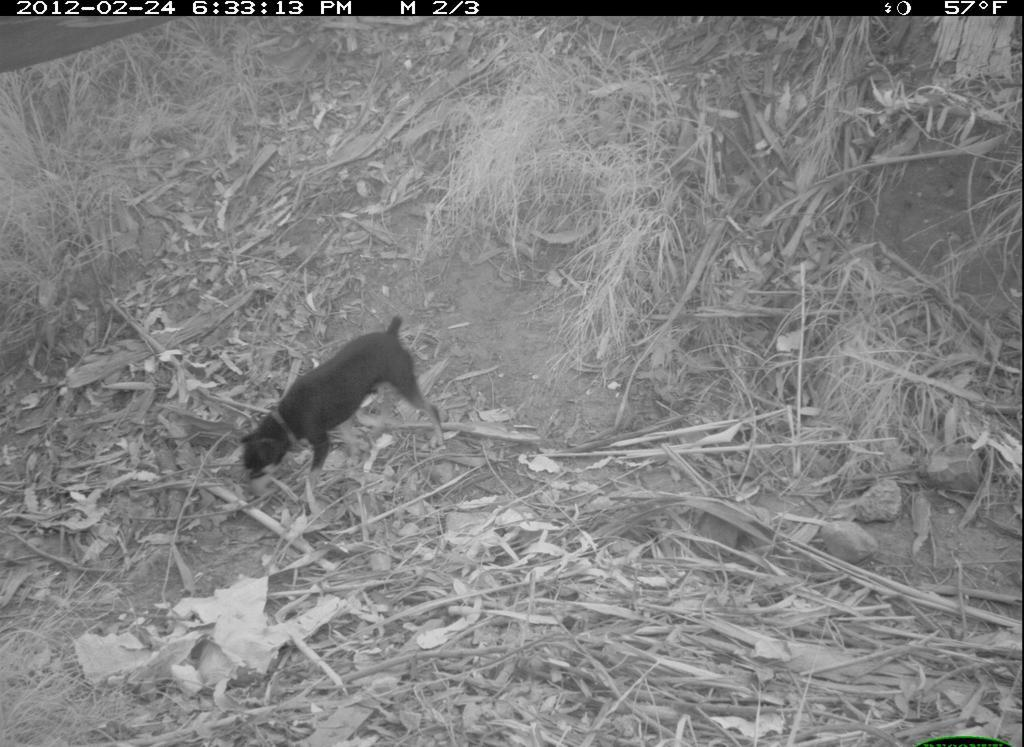dog: (239, 317, 457, 501)
